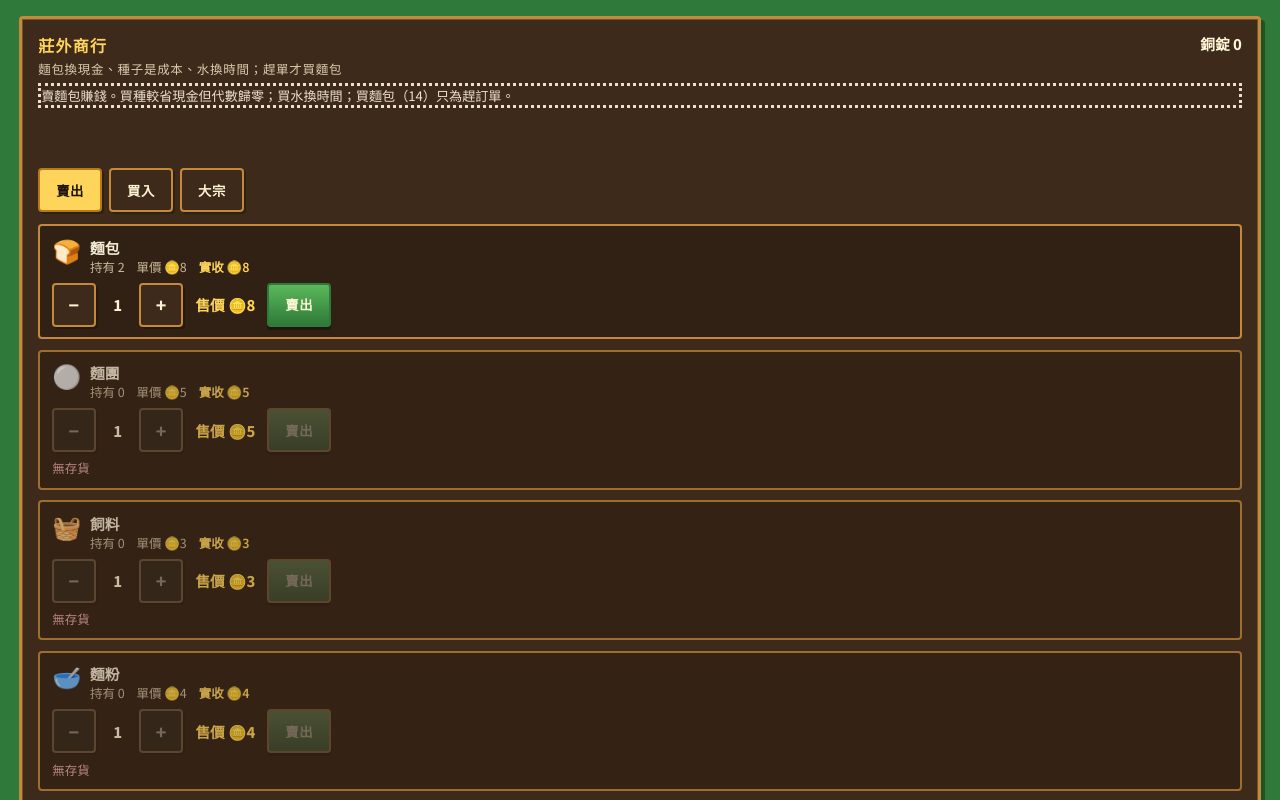
Scenario: MarketPanel › disables commodity buy when gold is insufficient
This screenshot has width=1280, height=800.
Click the tab with test id "market-tab-commodities" at x=212, y=190, box [180, 168, 244, 212]
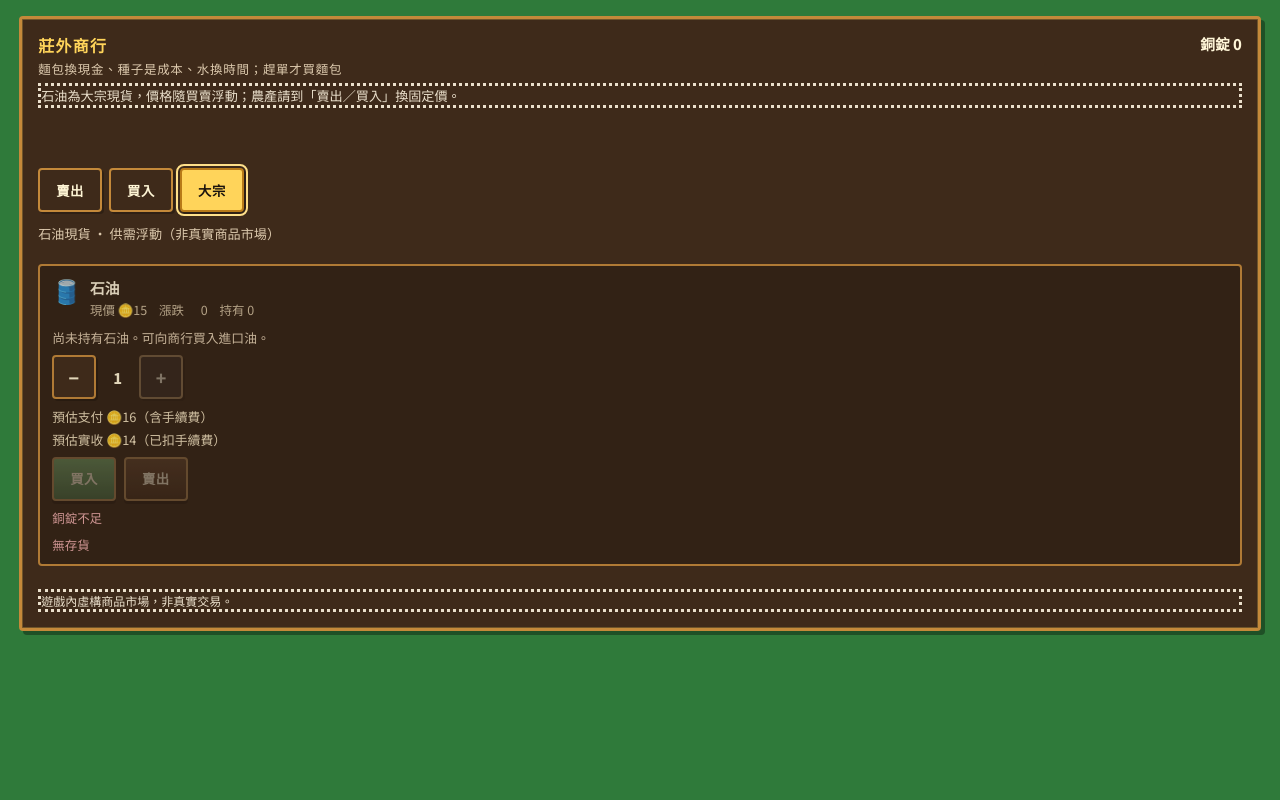
Check: the button "買入" is disabled, box [52, 456, 116, 500]
Check: the text "銅錠不足" is shown, box [52, 509, 102, 527]
